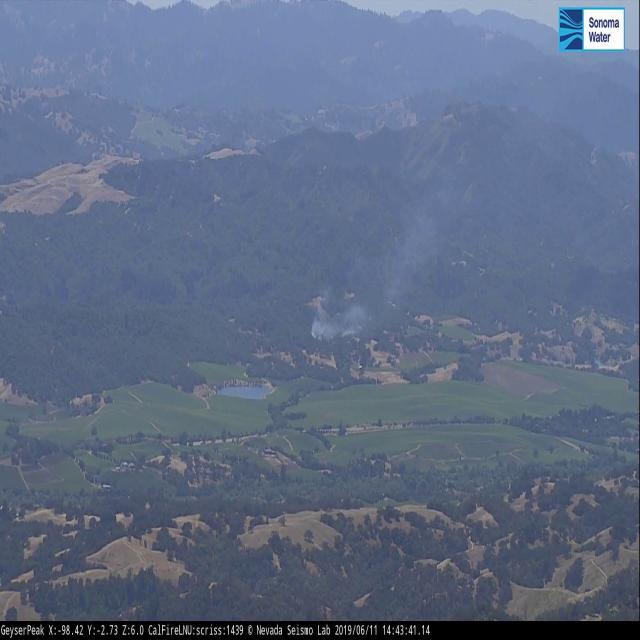smoke: (309, 166, 470, 348)
